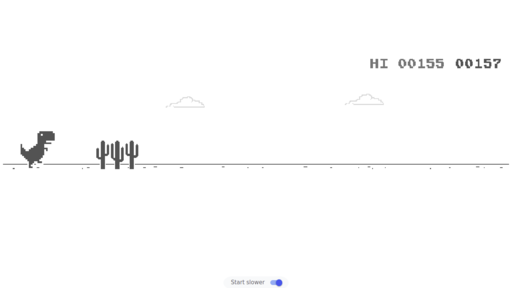dino: (19, 131, 56, 169)
tree: (95, 140, 139, 170)
